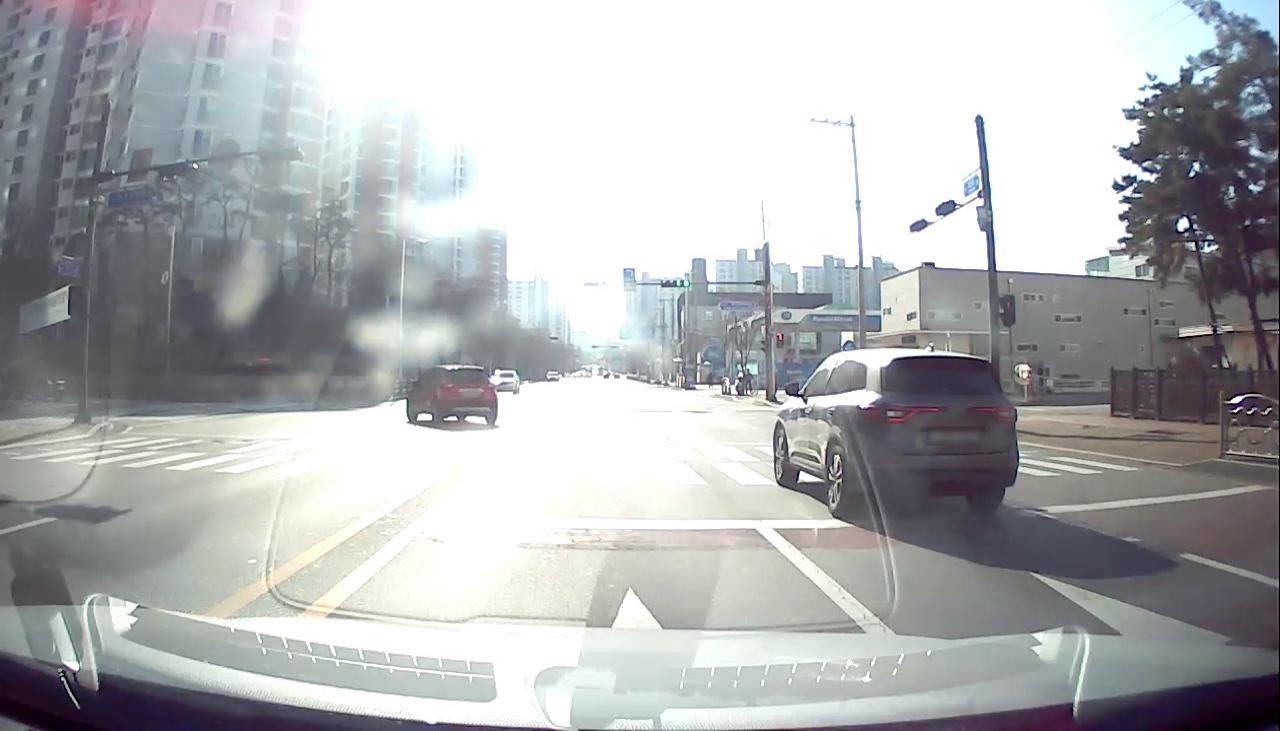Green Light: (684, 279, 690, 288)
Left turn: (675, 279, 683, 287)
